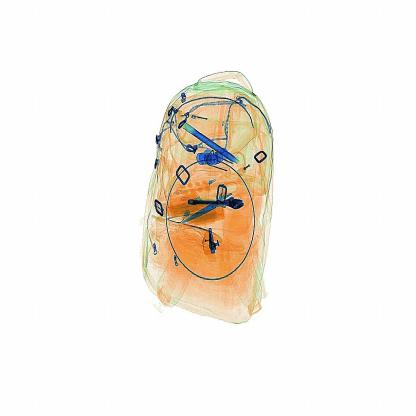gun: (180, 189, 248, 225)
